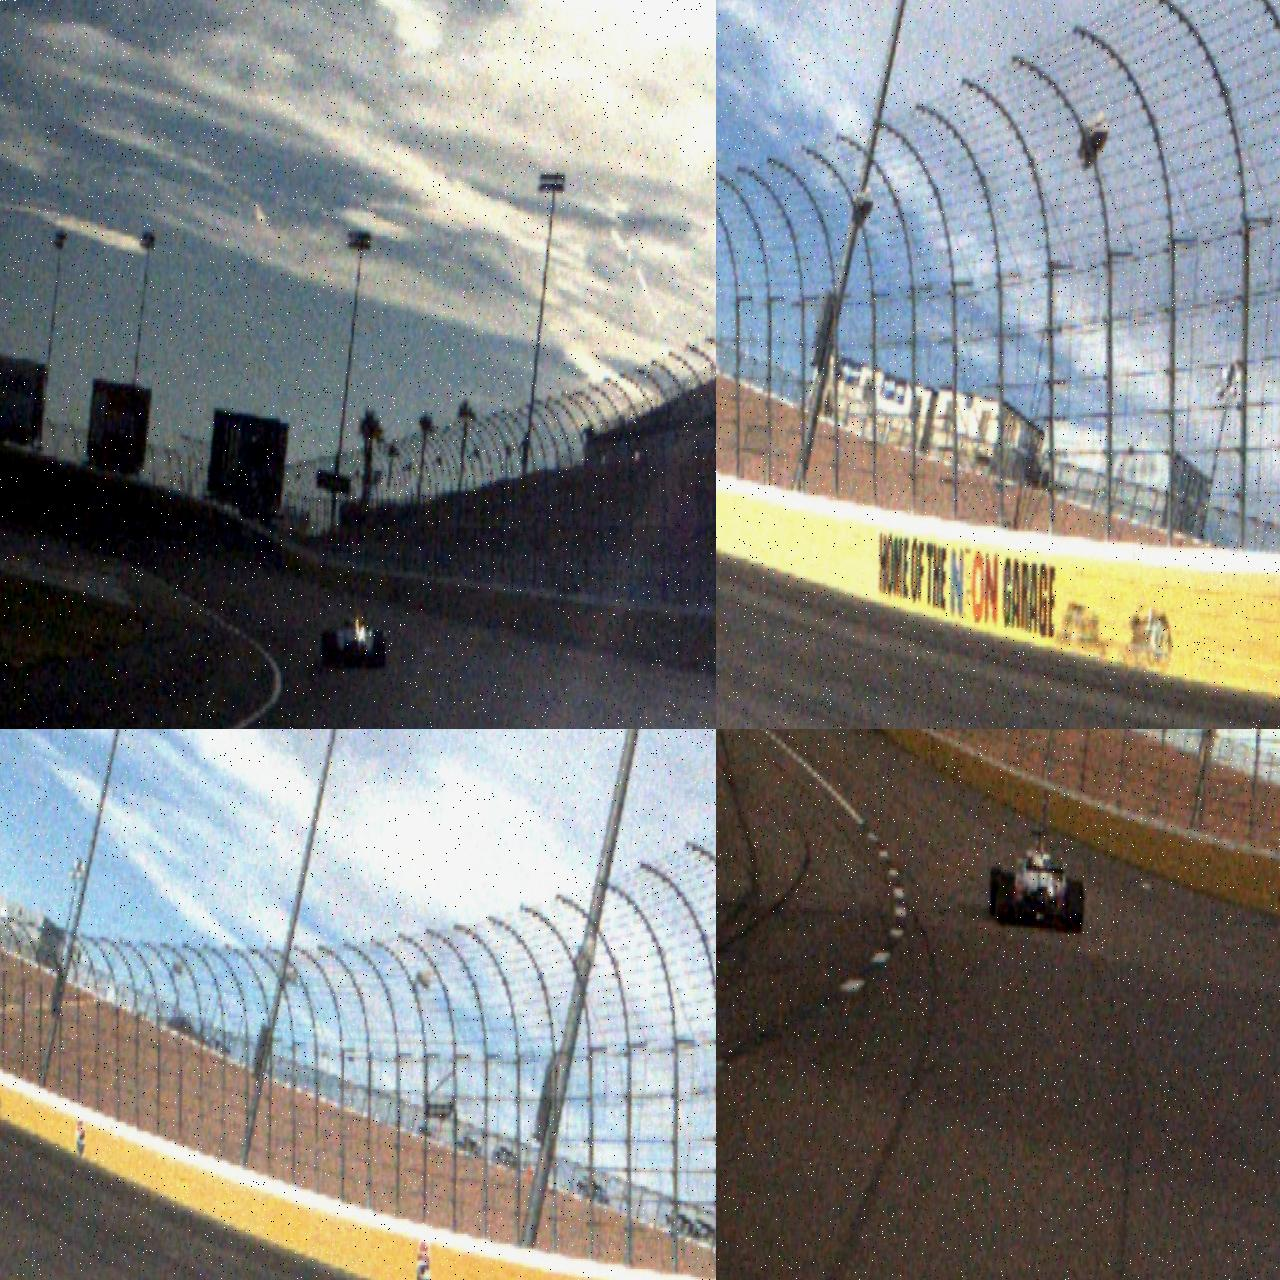AV: (987, 828, 1086, 934), (321, 598, 389, 670)
Wheel: (1065, 880, 1085, 934), (998, 872, 1016, 924), (988, 866, 1004, 918), (321, 630, 337, 668), (373, 632, 388, 670)
